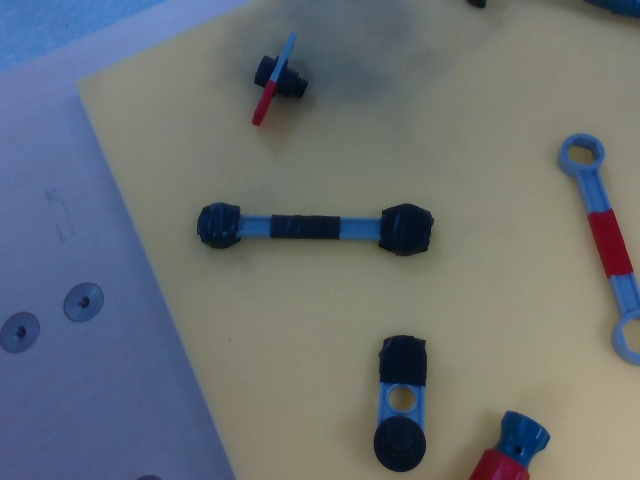part_1_good: (246, 28, 311, 132)
